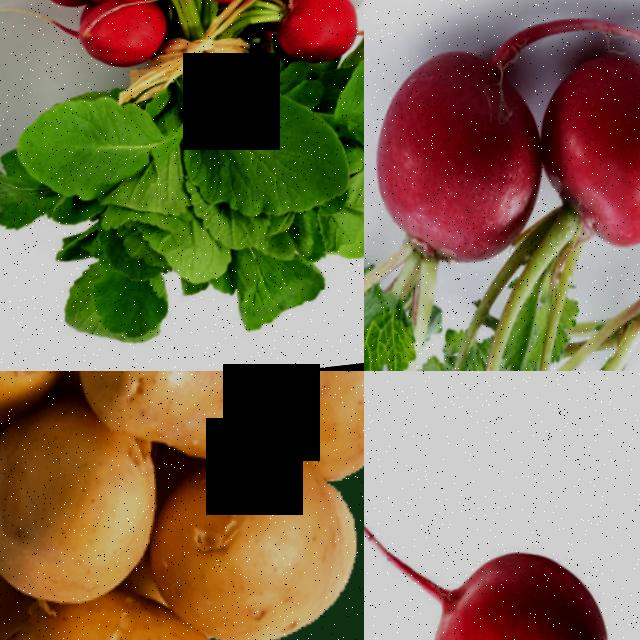potato: (157, 458, 364, 640), (0, 409, 158, 617), (90, 371, 339, 475), (312, 371, 364, 489)
radishes: (16, 0, 364, 142), (418, 540, 628, 640)
spinach: (364, 0, 640, 371)
